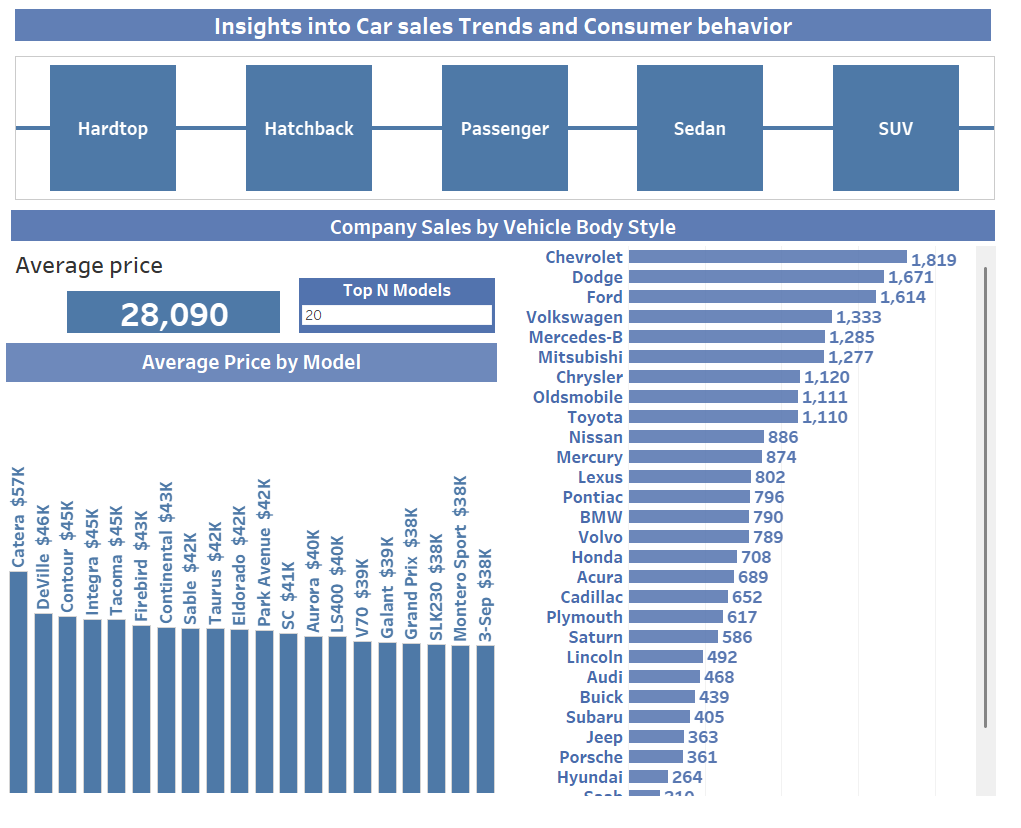

The page's visual inventory and layout, read from the dashboard file:
{"tool":"tableau","page":{"name":"Dashboard 1","canvas":[1000,800],"ordinal":0},"visuals":[{"type":"title","box":[8,8,984,40]},{"type":"worksheet","title":"Body Style","mark":"Circle","rows":["Calculation_1789054981887393793","Calculation_1789054981887430659"],"cols":["Body_style"],"box":[12,59,980,144]},{"type":"text","box":[8,213,984,31]},{"type":"worksheet","title":"Average Price","mark":"Square","box":[8,247,326,89]},{"type":"worksheet","title":"Company with highest sales","mark":"Bar","rows":["Company"],"cols":["sales_8E8EAAB7B1044DEA9476EDCC68D568E6"],"box":[505,249,488,550]},{"type":"parameter","param":"[Parameters].[Parameter 1]","box":[296,281,196,55]},{"type":"worksheet","title":"Price for top model","mark":"Automatic","rows":["Price"],"cols":["Model"],"box":[3,346,491,450]}]}

Visuals, with their boxes in screenshot pixels (x1, y1, x2, y2), scaled from the page's 1000x800 canvas onto the 1021x828 screenshot:
title: left=8, top=8, right=1013, bottom=50
"Body Style" worksheet (Circle marks): left=12, top=61, right=1013, bottom=210
text: left=8, top=220, right=1013, bottom=253
"Average Price" worksheet (Square marks): left=8, top=256, right=341, bottom=348
"Company with highest sales" worksheet (Bar marks): left=516, top=258, right=1014, bottom=827
parameter: left=302, top=291, right=502, bottom=348
"Price for top model" worksheet: left=3, top=358, right=504, bottom=824
